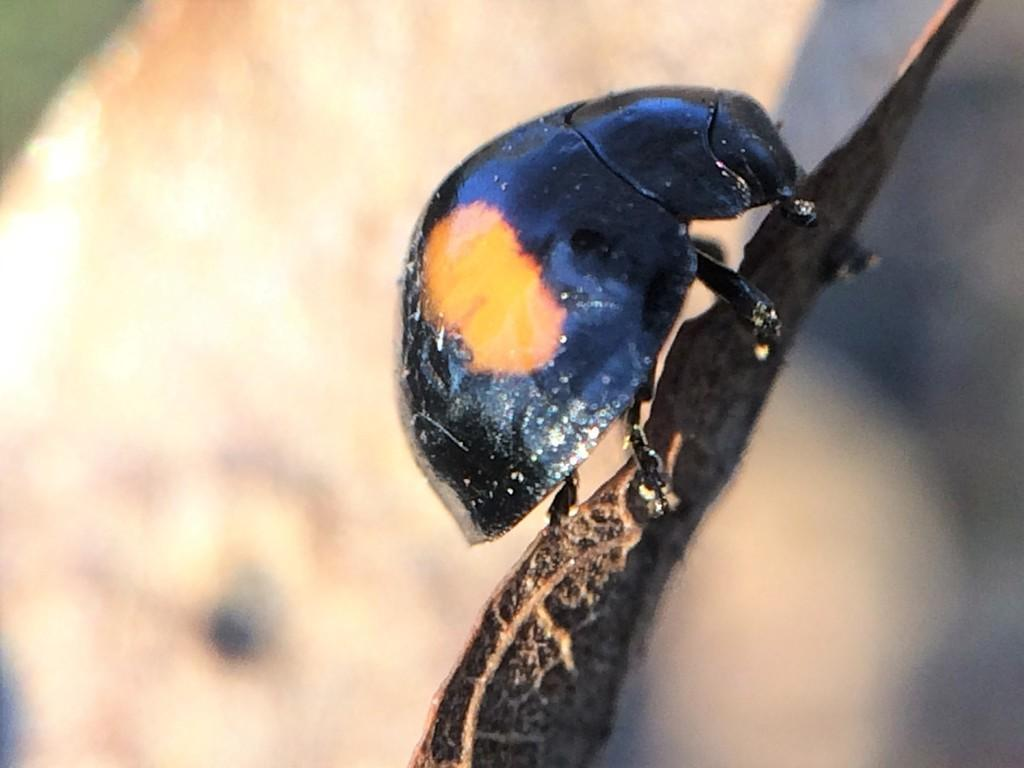ladybug: (393, 81, 827, 549)
